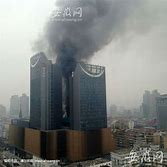smoke: (42, 1, 105, 66)
